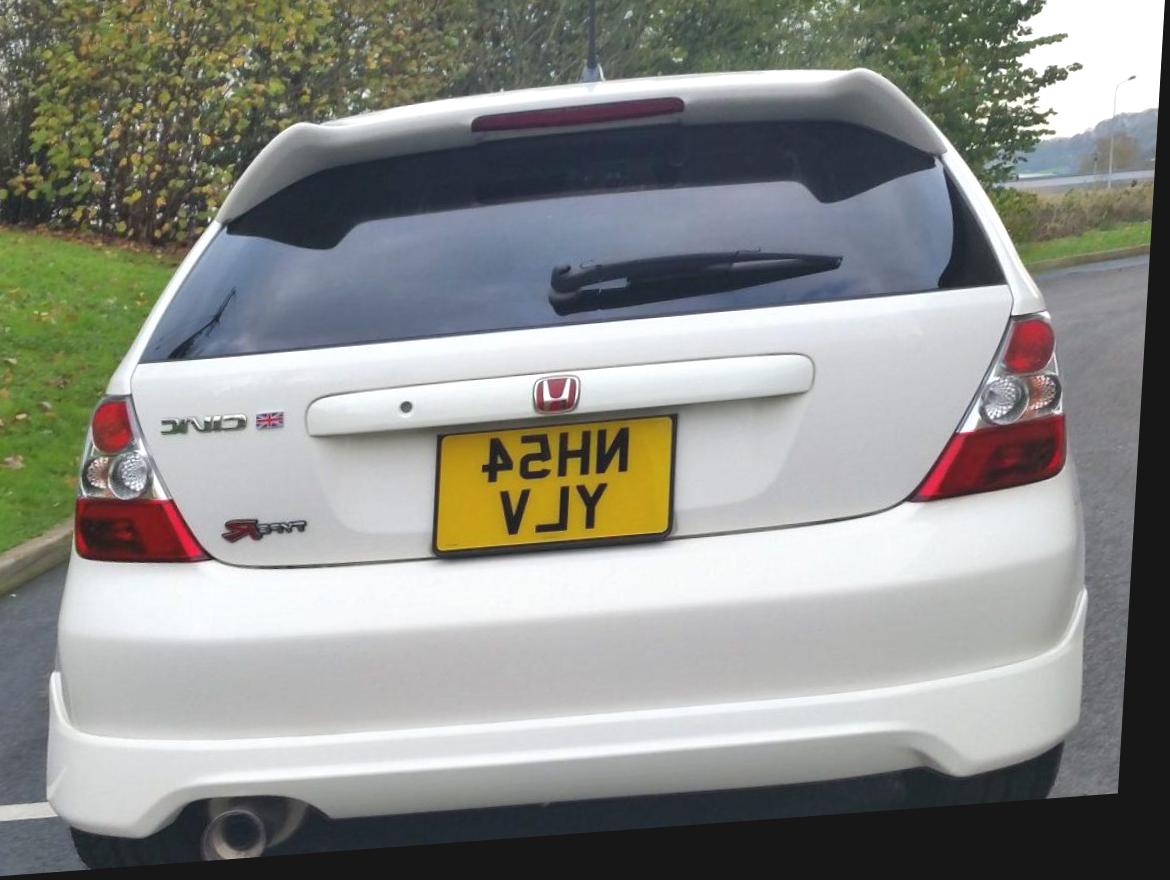License_Plate: (415, 404, 689, 575)
